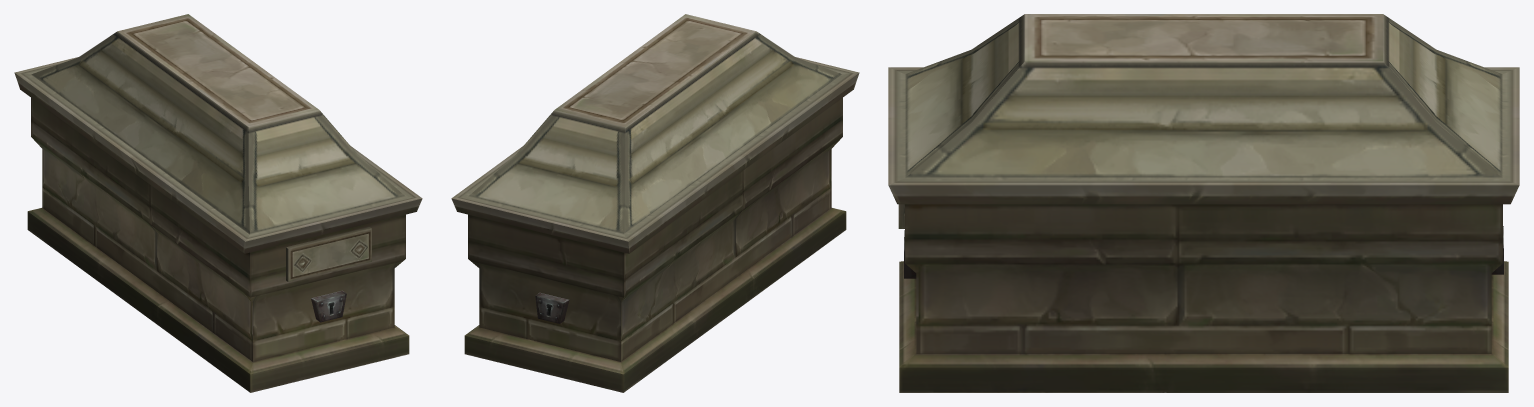
The model's file is TyrantTomb01.FBX.
3 views of the same model, side by side, from view 1: azimuth 30°, elevation 25°; view 2: azimuth 150°, elevation 25°; view 3: azimuth 270°, elevation 25° (orthographic). The views are drawn at different scales.
Visible parts, largest first — view 1: TyrantTomb01; view 2: TyrantTomb01; view 3: TyrantTomb01.
Part boxes in pixels (box(x1,y1,x2,y2)): TyrantTomb01: box(14, 14, 422, 392); TyrantTomb01: box(451, 14, 859, 392); TyrantTomb01: box(888, 14, 1519, 392).
Size of the model in its own units: 140 by 167 by 316.
